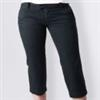bermuda: (19, 2, 86, 96)
